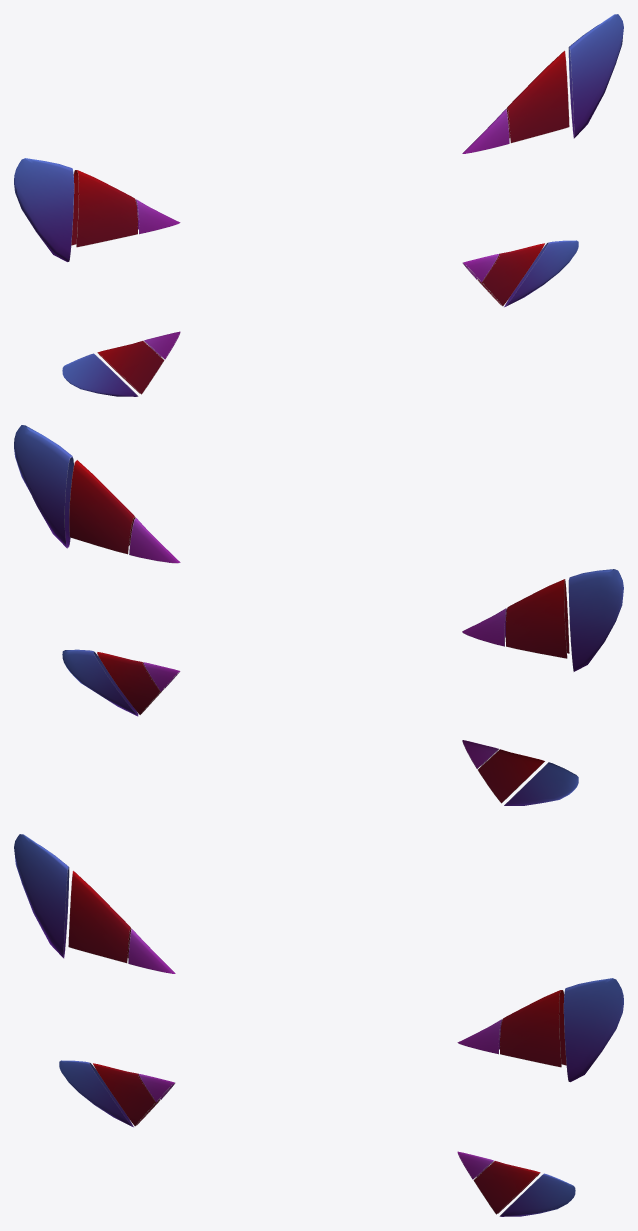
Rendered from wings1.fbx.
3 views of the same model, one above another, from view 1: azimuth 30°, elevation 25°; view 2: azimuth 150°, elevation 25°; view 3: azimuth 330°, elevation 25° (orthographic).
Visible parts, largest first — view 1: wing1high_right1; view 2: wing1high_right1; view 3: wing1high_right1.
Part boxes in pixels (x1=…): wing1high_right1: x1=14, y1=14, x2=623, y2=396; wing1high_right1: x1=14, y1=425, x2=623, y2=805; wing1high_right1: x1=14, y1=834, x2=623, y2=1216.
Size of the model in its own units: 6.75 by 2.84 by 0.218.
